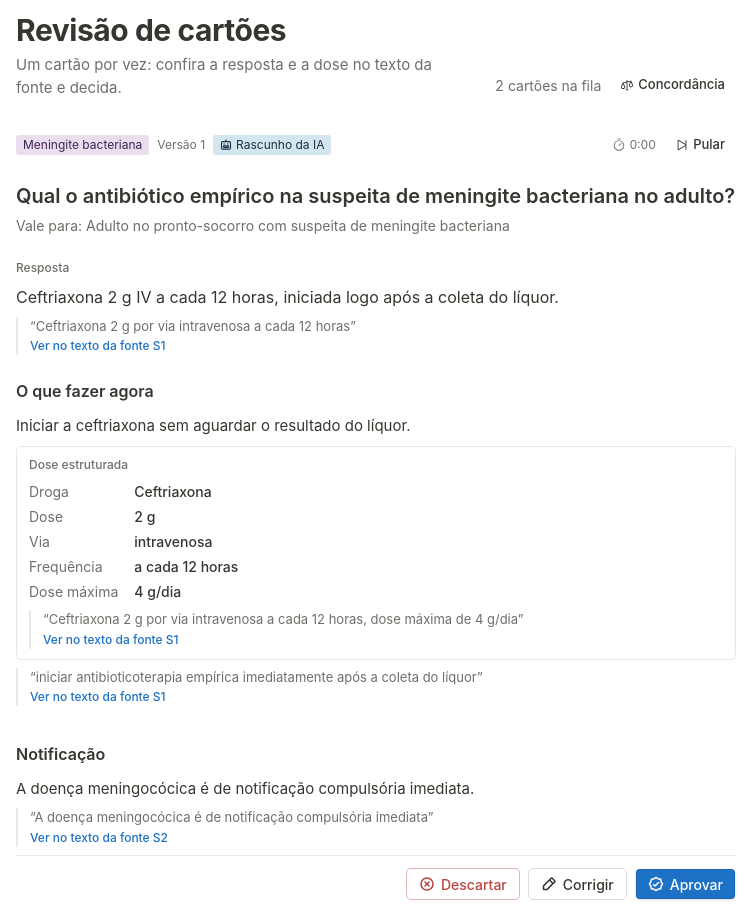
Test: Revisão de cartões (CC-404) › pular deixa o cartão para depois
Expected: the heading "Qual o antibiótico empírico na suspeita de meningite bacteriana no adulto?" is shown, top-left (16, 183), bottom-right (736, 209)
Click the button named "Pular" next to "0:00": x=700, y=145 top-left (664, 131), bottom-right (736, 159)
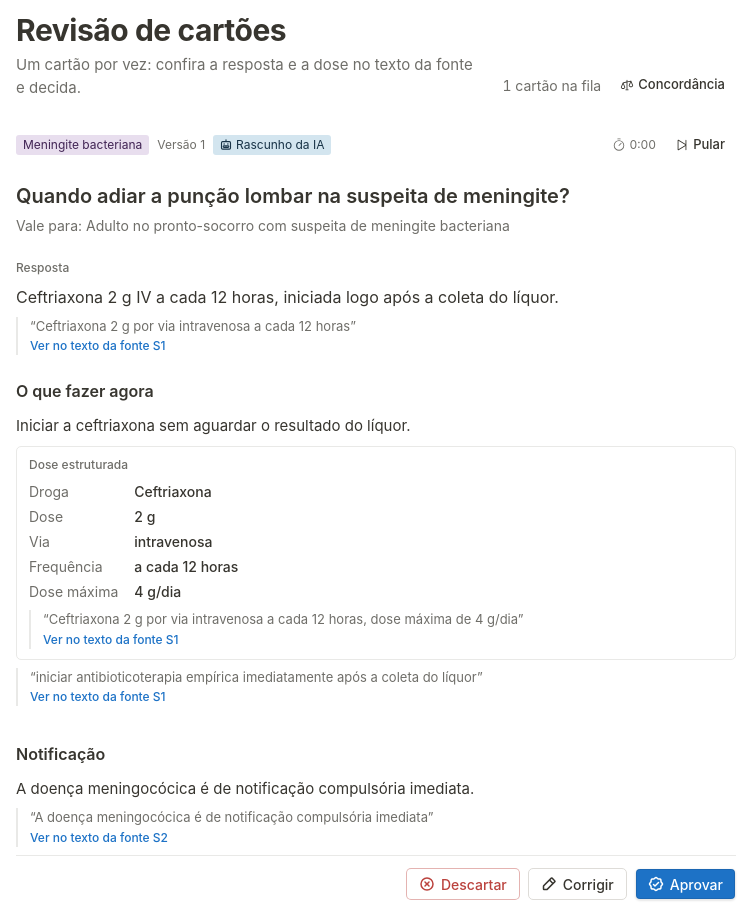
Expected: the heading "Quando adiar a punção lombar na suspeita de meningite?" is shown, top-left (16, 184), bottom-right (570, 208)
